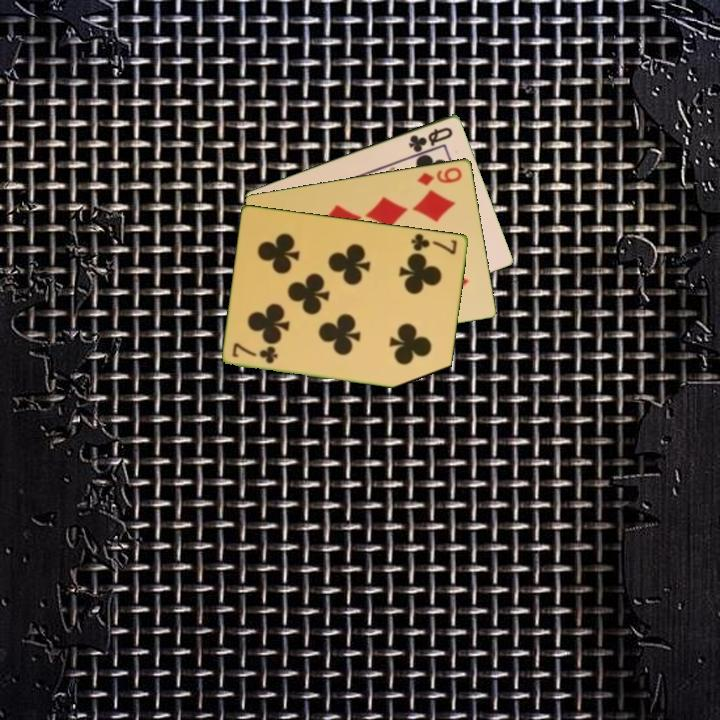7c: (408, 230, 460, 257), (229, 339, 281, 366)
9d: (413, 163, 465, 188)
Qc: (405, 123, 456, 155)
